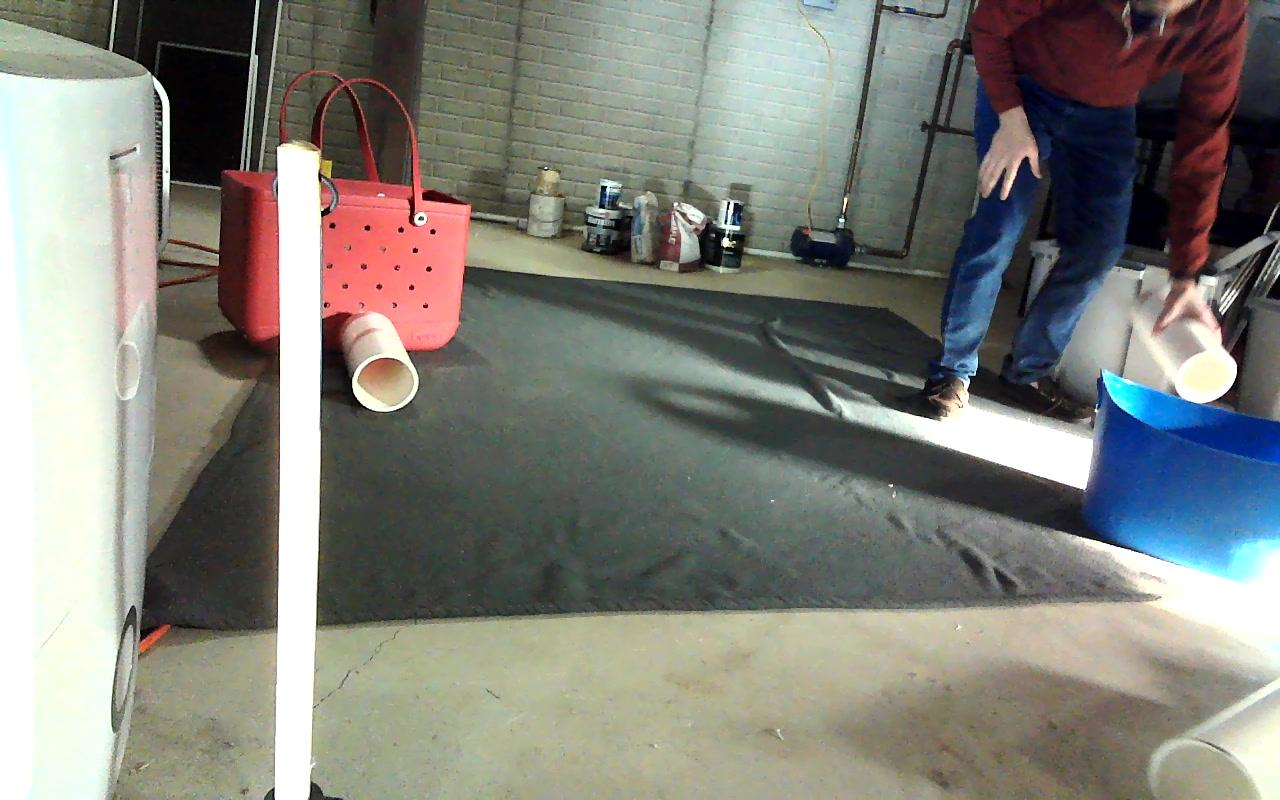coral: (1149, 678, 1280, 800), (1125, 288, 1238, 402), (340, 312, 419, 413)
